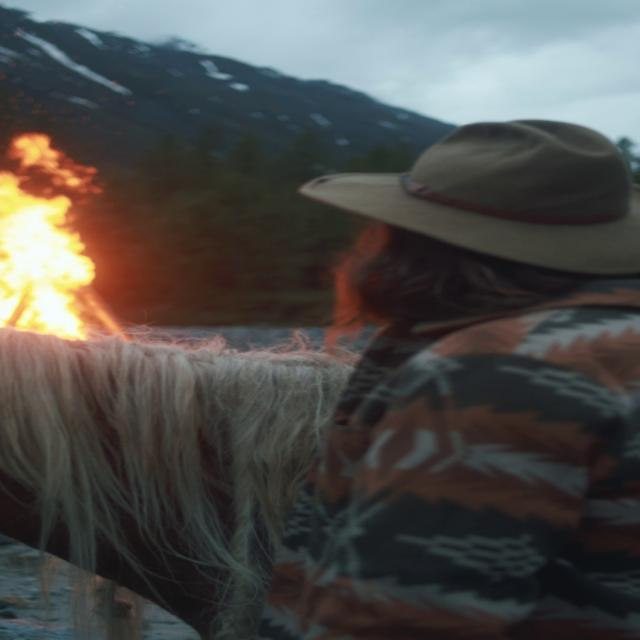Fire: (0, 124, 108, 340)
